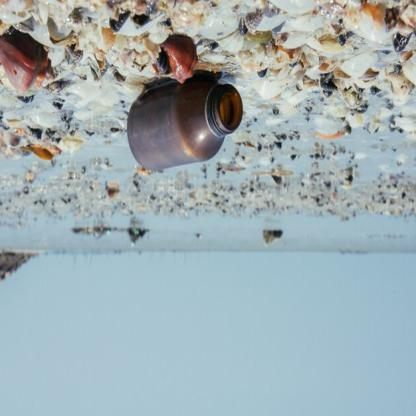Plastic: (124, 72, 245, 178)
